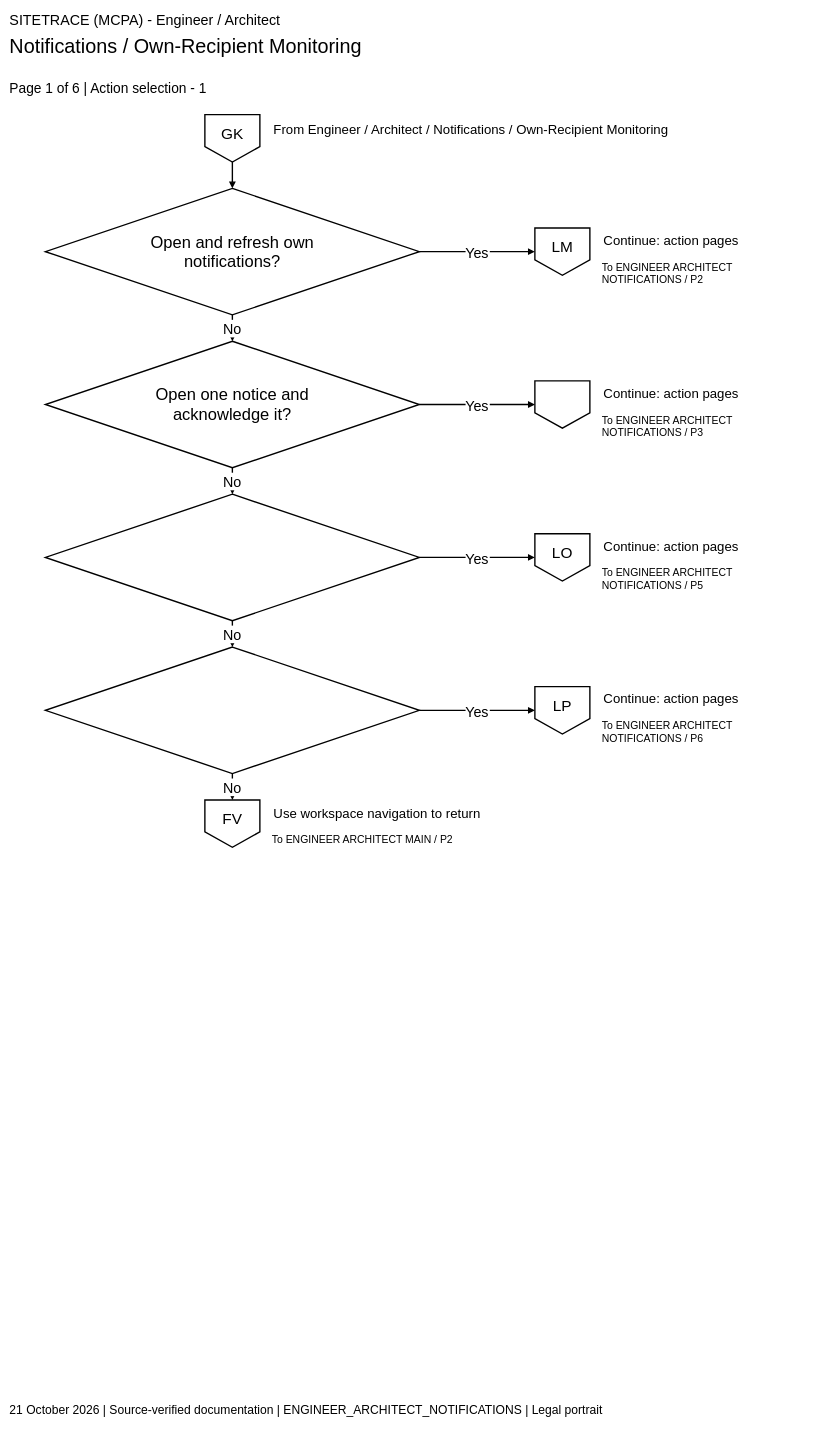
Some shapes in this 827 by 1430 pixel diagram are drawn without their labels. Each missing label, with the centre of its shape:
LN: (x=562, y=404)
Mark all currently loaded unread notices?: (x=232, y=557)
Open overdue request or activity logs?: (x=232, y=710)
